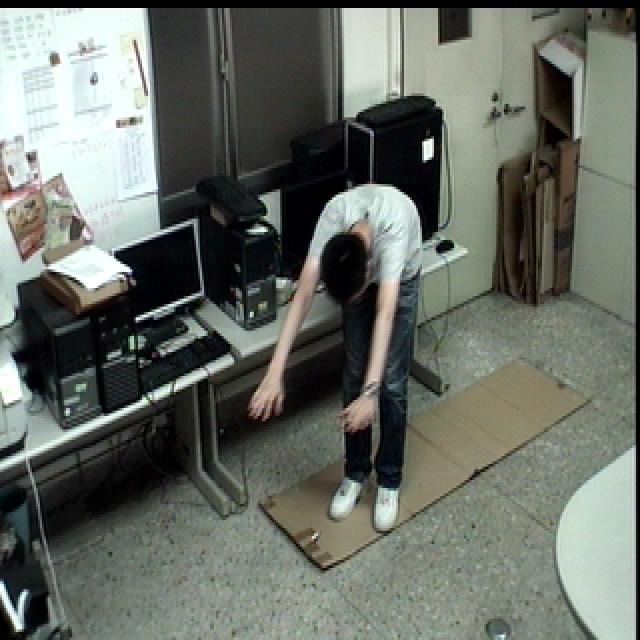bend: (258, 169, 440, 536)
